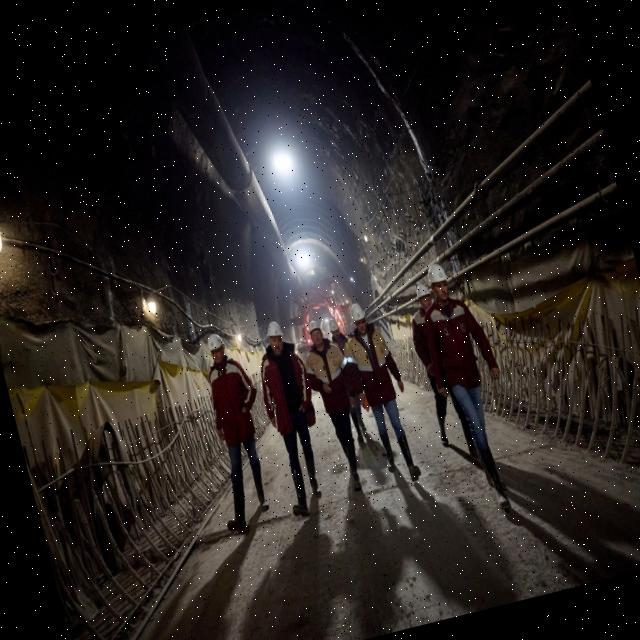Helmet: (427, 262, 451, 289), (205, 332, 228, 356), (265, 321, 285, 344), (349, 303, 368, 325), (416, 284, 434, 303), (308, 320, 325, 338), (328, 319, 342, 336)
Jacket: (430, 296, 481, 385), (349, 322, 398, 405), (307, 340, 357, 414)
NoJacket: (260, 344, 315, 437), (207, 356, 259, 445)
